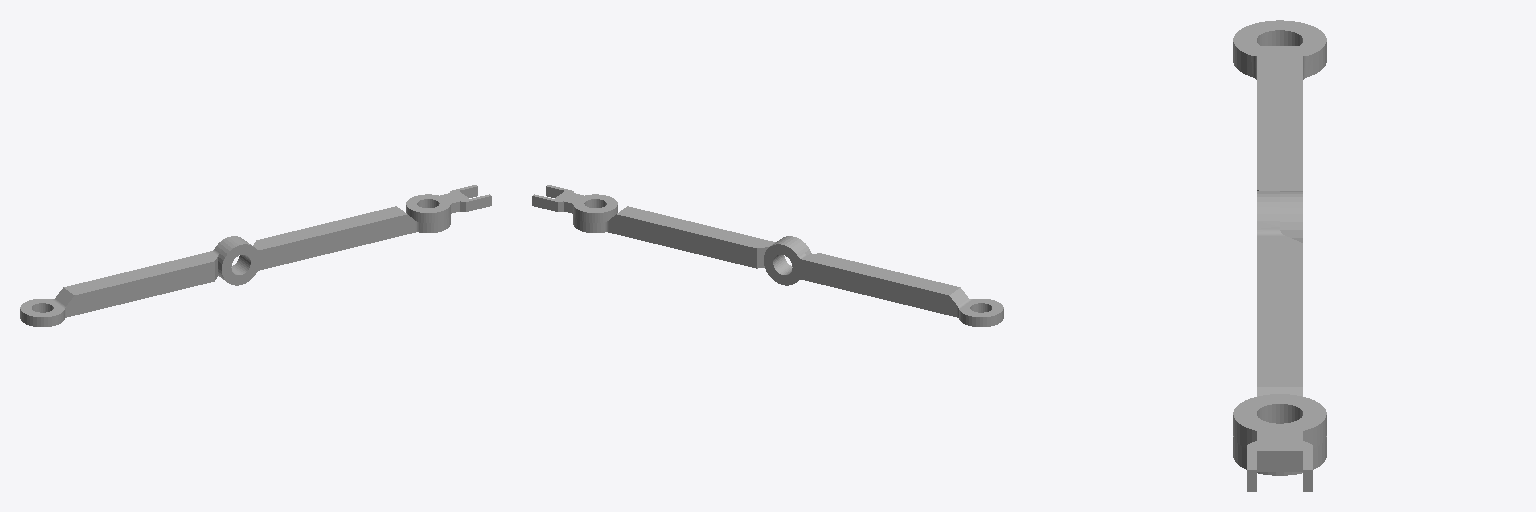
URDF robot description (twist_3dof):
<robot name="twist_3dof">

  <link name="base_link"/>

  <link name="link_1">
    <visual>
      <geometry>
        <mesh filename="package://lesson_urdf/meshes/visual/arm_link_twist_1.stl"/>
      </geometry>
      <material name="grey">
        <color rgba="0.7 0.7 0.7 1.0"/>
      </material>
    </visual>
    <collision>
      <geometry>
        <mesh filename="package://lesson_urdf/meshes/collision/arm_link_twist_1.stl"/>
      </geometry>
    </collision>
  </link>

  <link name="link_2">
    <visual>
      <geometry>
        <mesh filename="package://lesson_urdf/meshes/visual/arm_link_twist_2.stl"/>
      </geometry>
      <material name="grey"/>
    </visual>

    <collision>
      <geometry>
        <mesh filename="package://lesson_urdf/meshes/collision/arm_link_twist_2.stl"/>
      </geometry>
    </collision>
  </link>

  <link name="gripper">
    <visual>
      <geometry>
        <mesh filename="package://lesson_urdf/meshes/visual/gripper.stl"/>
      </geometry>
      <material name="grey"/>
    </visual>
    <collision>
      <geometry>
        <mesh filename="package://lesson_urdf/meshes/collision/gripper.stl"/>
      </geometry>
    </collision>
  </link>

  <joint name="joint_1" type="revolute">
    <origin xyz="0 0 0" rpy="0 0 0"/>
    <parent link="base_link"/>
    <child link="link_1"/>
    <axis xyz="0 0 1"/>
    <limit lower="-1.57" upper="1.57" effort="0" velocity="0.5"/>
  </joint>

  <joint name="joint_2" type="revolute">
    <origin xyz="0.5 0 0" rpy="0 0 0"/>
    <parent link="link_1"/>
    <child link="link_2"/>
    <axis xyz="0 1 0"/>
    <limit lower="-1.57" upper="1.57" effort="0" velocity="0.5"/>
  </joint>

  <joint name="joint_3" type="revolute">
    <origin xyz="0.5 0 0" rpy="0 0 0"/>
    <parent link="link_2"/>
    <child link="gripper"/>
    <axis xyz="0 0 1"/>
    <limit lower="-1.57" upper="1.57" effort="0" velocity="0.5"/>
  </joint>
</robot>

--- What the picture shows (computed from the rendered views, not written in the file) ---
Views: 3 orthographic renders of the robot side by side, from view 1: azimuth 30°, elevation 25°; view 2: azimuth 150°, elevation 25°; view 3: azimuth 270°, elevation 25°.
Robot: twist_3dof — 4 links, 3 joints (3 revolute); root link base_link; default pose: all joints at 0.
Links seen in each view (by area): view 1: link_2, link_1, gripper; view 2: link_1, link_2, gripper; view 3: link_1, link_2, gripper.
Link boxes in pixels (box(x1,y1,x2,y2)): link_2: box(218, 206, 450, 285); link_1: box(20, 236, 246, 326); gripper: box(406, 185, 491, 222); link_1: box(764, 240, 1003, 326); link_2: box(573, 206, 811, 270); gripper: box(532, 185, 617, 222); link_1: box(1233, 20, 1326, 242); link_2: box(1233, 191, 1326, 475); gripper: box(1233, 394, 1326, 491).
Bounding box of the posed robot: 1.19 × 0.1 × 0.0997 m (x, y, z).
3 mesh visuals loaded from 3 distinct referenced files (3 binary STL).